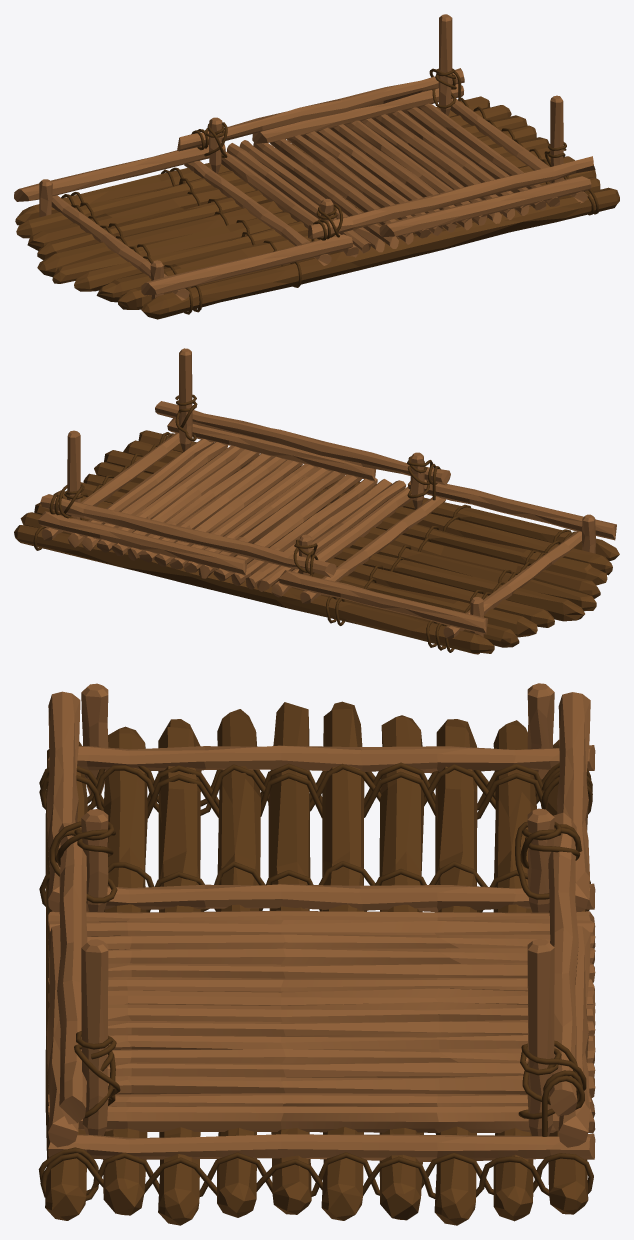
File: raft_table.fbx
3 renders of one model, top to bottom at view 1: azimuth 30°, elevation 25°; view 2: azimuth 150°, elevation 25°; view 3: azimuth 270°, elevation 25°, orthographic. The views are drawn at different scales.
Visible parts, largest first — view 1: üst, alt, ip; view 2: üst, alt, ip; view 3: üst, alt, ip.
Part boxes in pixels (left/top/right/bottom): üst: left=14, top=14, right=595, bottom=300; alt: left=15, top=96, right=619, bottom=319; ip: left=61, top=68, right=598, bottom=314; üst: left=38, top=348, right=616, bottom=654; alt: left=14, top=430, right=619, bottom=653; ip: left=33, top=394, right=575, bottom=652; üst: left=46, top=683, right=595, bottom=1161; alt: left=45, top=701, right=588, bottom=1225; ip: left=38, top=762, right=593, bottom=1200.
Bounding box in the file's own units: 619 × 139 × 289.
